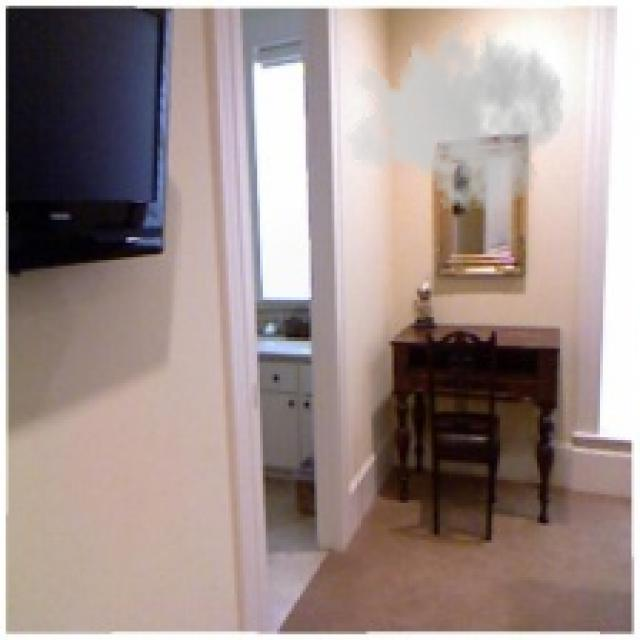smoke: (346, 8, 566, 223)
